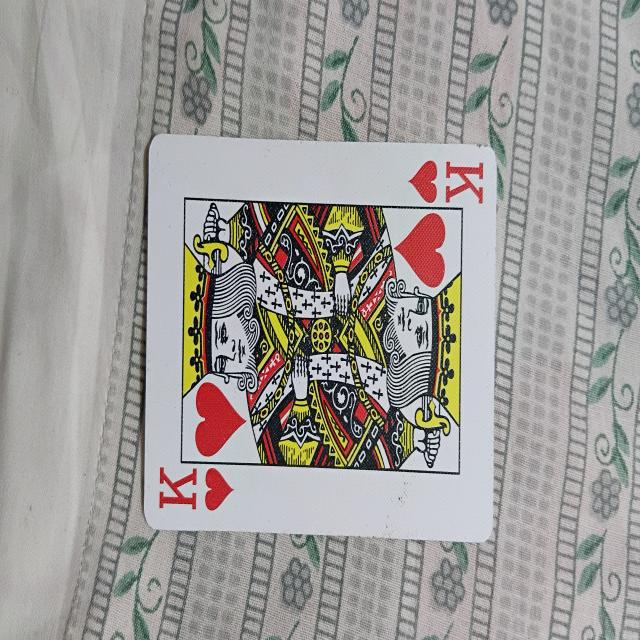KH: (144, 145, 493, 541)
